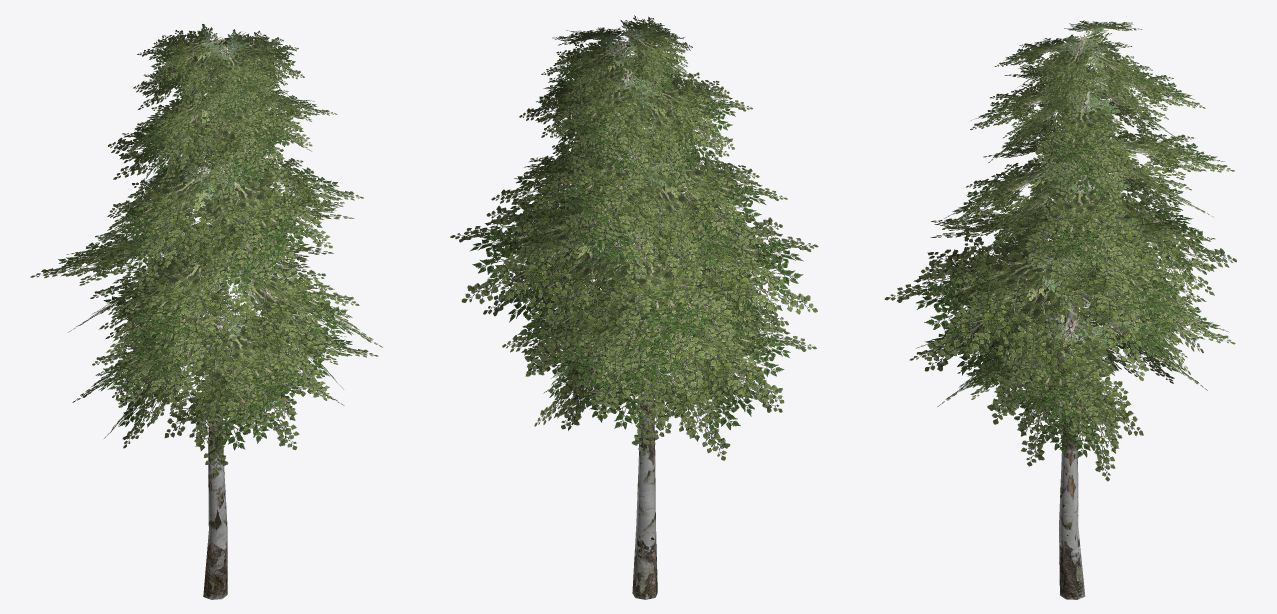
The model's file is birchTree.dae.
3 views of the same model, side by side, from view 1: azimuth 30°, elevation 25°; view 2: azimuth 150°, elevation 25°; view 3: azimuth 270°, elevation 25° (orthographic). The views are drawn at different scales.
Visible parts, largest first — view 1: birchTree; view 2: birchTree; view 3: birchTree.
Part boxes in pixels (x1,y1,x2,y2): birchTree: (30, 24, 382, 599); birchTree: (450, 15, 818, 599); birchTree: (884, 20, 1236, 599).
Bounding box in the file's own units: 0.8604 × 1.34 × 0.8237.
Materials: 1 (1 with a texture image).
